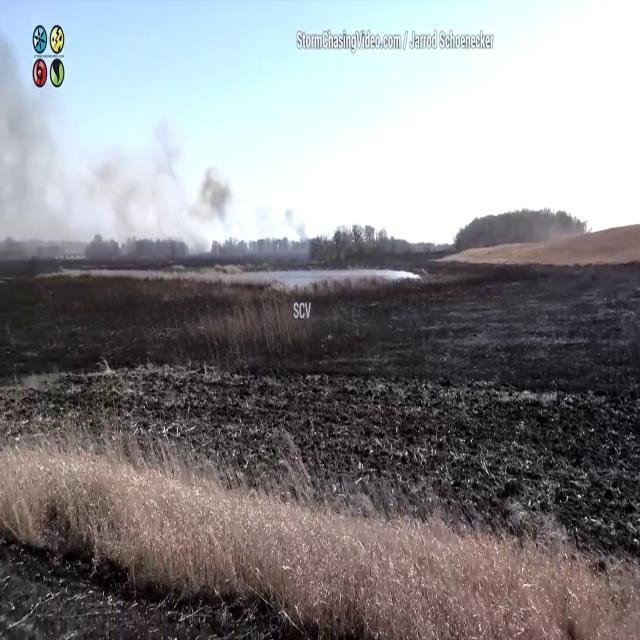Smoke: (0, 98, 310, 257)
